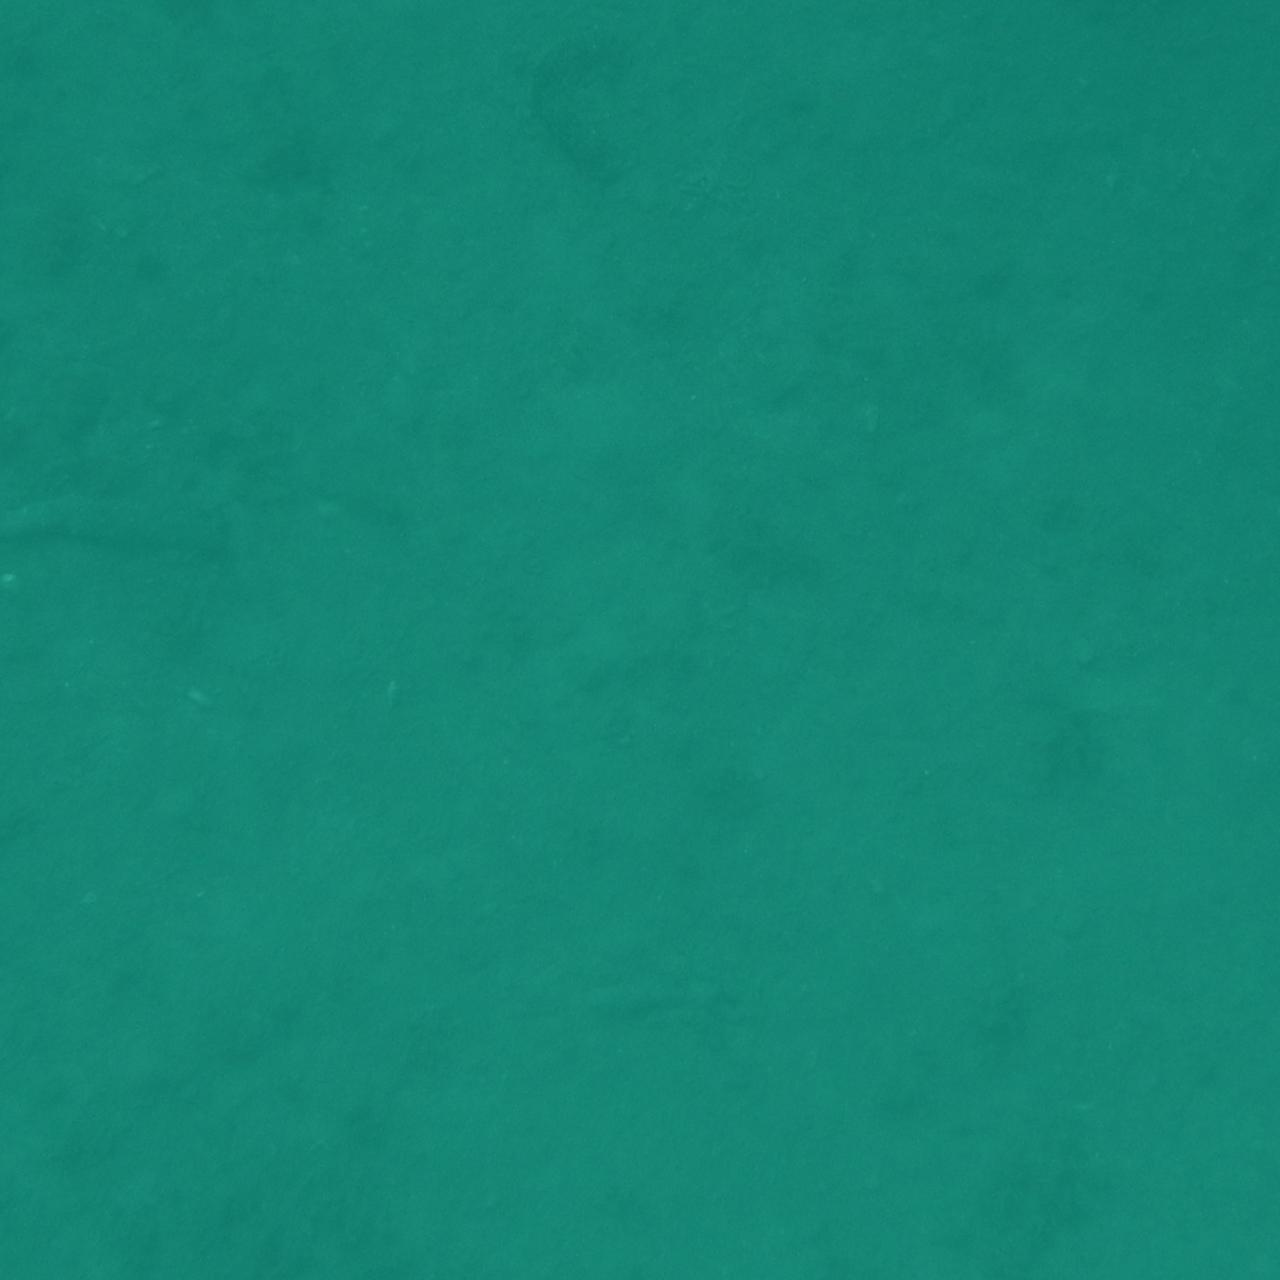Holothuria tubulosa: (0, 457, 272, 571), (529, 1, 661, 211), (0, 700, 113, 920), (0, 272, 135, 442), (971, 0, 1183, 107), (0, 1151, 156, 1280), (0, 1132, 135, 1280), (374, 0, 515, 123), (591, 0, 713, 124), (1145, 362, 1280, 472), (0, 268, 102, 407), (0, 966, 66, 1126), (0, 0, 105, 98), (1152, 0, 1280, 75), (0, 1165, 82, 1280), (0, 1177, 89, 1280), (0, 0, 80, 86), (1185, 0, 1280, 55)
